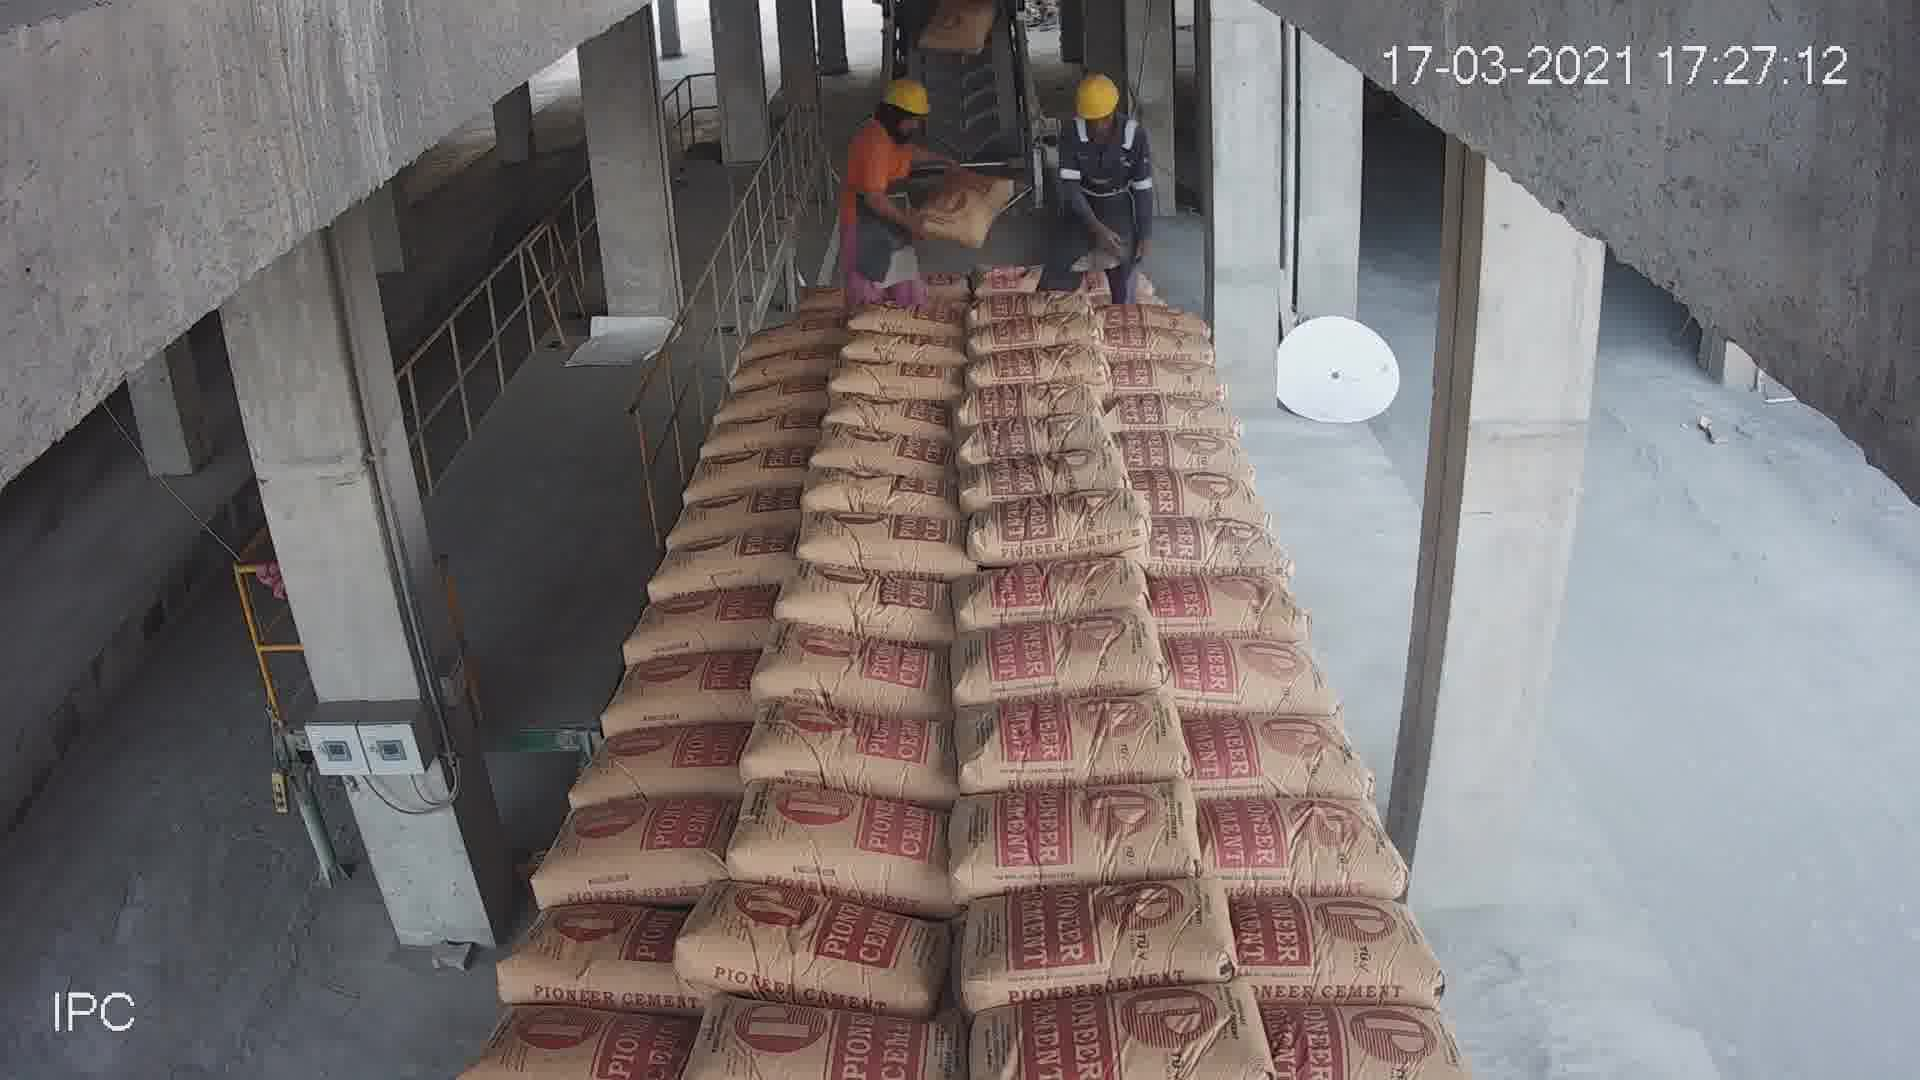bag_h: (952, 767, 1240, 897), (964, 889, 1255, 1000), (969, 593, 1213, 709), (682, 882, 924, 998), (483, 887, 733, 1000), (542, 787, 757, 914), (727, 793, 953, 898), (975, 700, 1196, 806), (1189, 793, 1395, 905), (1225, 890, 1418, 1007), (1174, 702, 1367, 802), (762, 550, 957, 647), (576, 717, 764, 819), (748, 702, 947, 795), (607, 637, 767, 740), (981, 491, 1175, 571), (633, 570, 804, 659), (750, 638, 953, 708), (1160, 634, 1328, 717), (1137, 495, 1296, 582), (653, 520, 811, 605), (960, 554, 1154, 624), (810, 501, 963, 582), (1130, 564, 1291, 636), (969, 444, 1139, 512), (796, 455, 955, 521), (1145, 462, 1267, 537), (694, 431, 814, 506), (676, 469, 804, 538), (996, 365, 1130, 423), (982, 307, 1118, 363), (816, 386, 963, 436), (967, 411, 1117, 460), (997, 344, 1145, 392), (810, 426, 955, 473), (829, 353, 967, 404), (837, 320, 971, 371), (1139, 382, 1244, 443), (1146, 425, 1262, 476), (858, 291, 971, 340), (713, 410, 825, 458), (1110, 320, 1220, 368), (978, 287, 1098, 328), (1120, 355, 1221, 396), (721, 381, 825, 419), (760, 311, 861, 349), (731, 353, 824, 392), (1110, 298, 1209, 331), (796, 285, 858, 314)
bag_v: (928, 169, 992, 247), (930, 16, 996, 50)
belt: (877, 9, 1029, 224)
